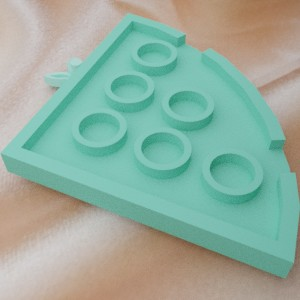lego: (0, 12, 299, 278), (43, 56, 111, 107)
